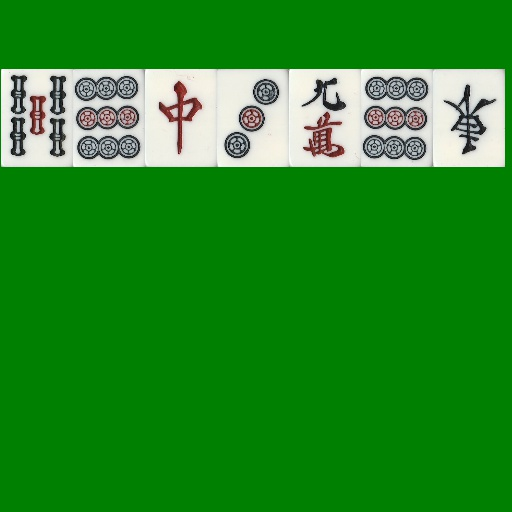3p: (217, 69, 289, 167)
5s: (1, 69, 73, 167)
9m: (289, 69, 361, 167)
9p: (73, 69, 145, 167), (361, 69, 433, 167)
east: (433, 69, 505, 167)
tyun: (145, 69, 217, 167)
